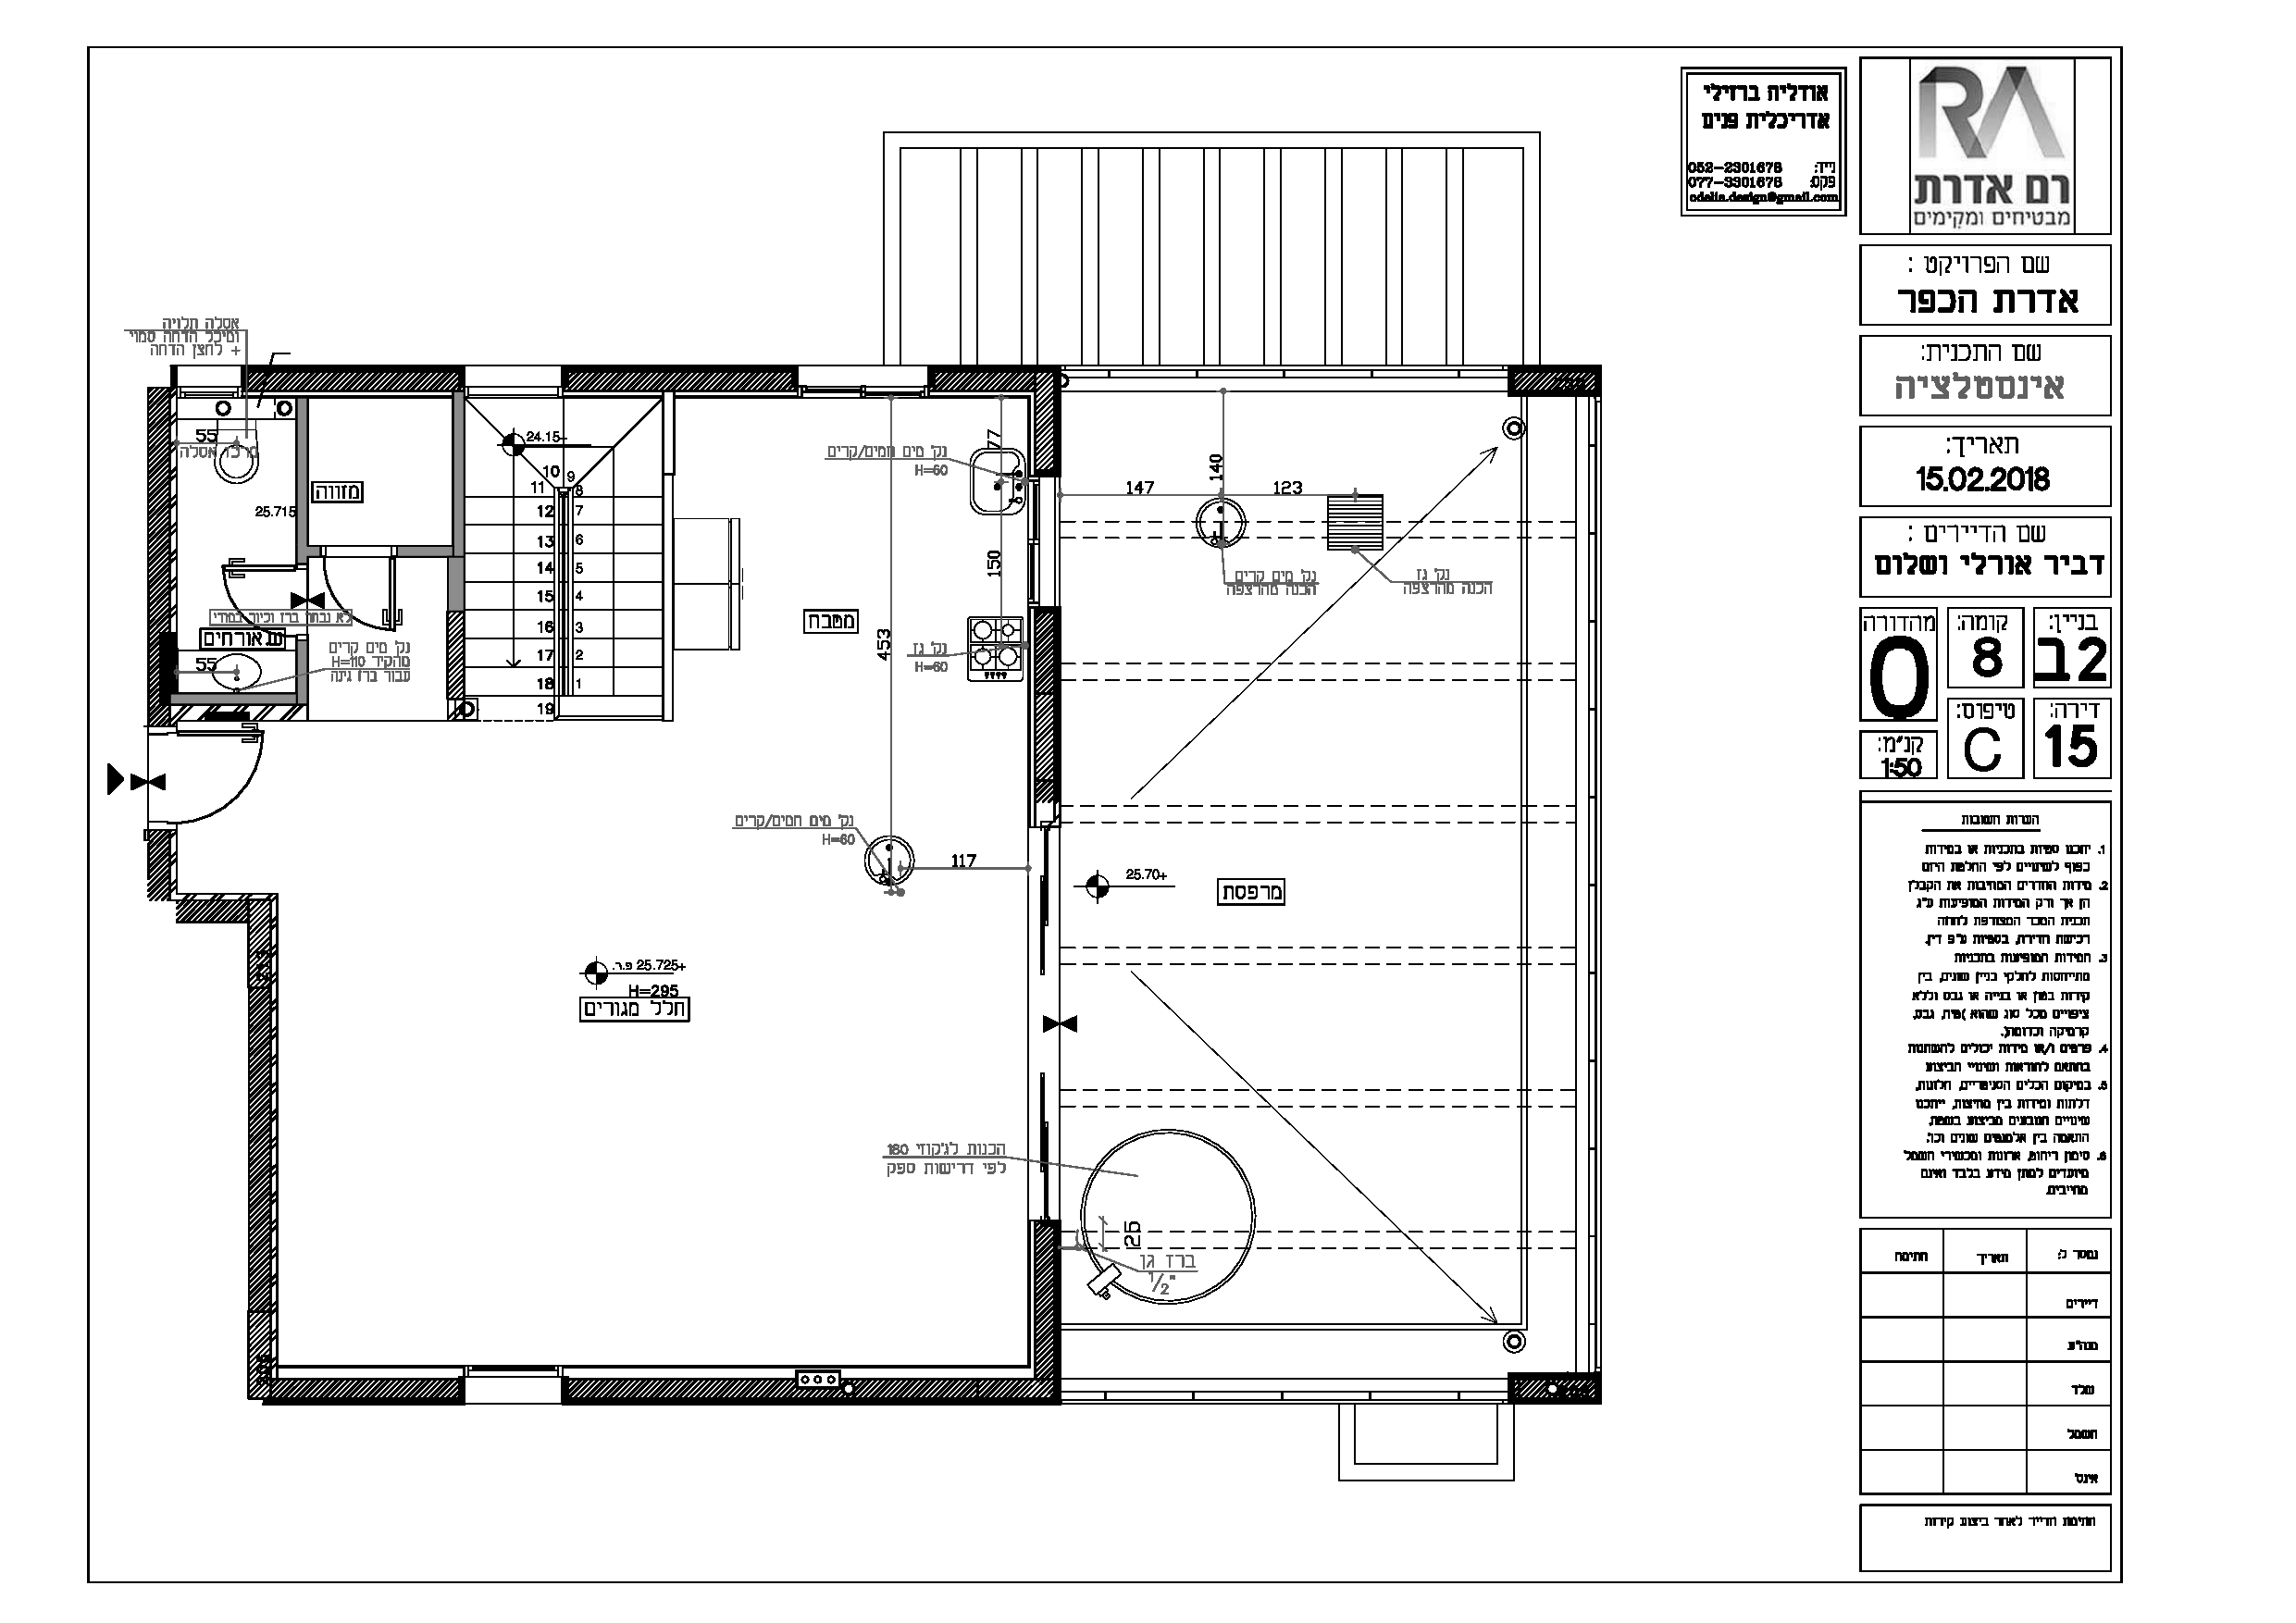door: (186, 729, 279, 824), (320, 566, 423, 636)
wall: (251, 987, 267, 1305), (151, 393, 169, 627), (578, 374, 787, 392), (283, 371, 448, 390), (1033, 1228, 1052, 1377), (278, 1382, 444, 1398), (576, 1384, 787, 1393), (1035, 371, 1052, 472), (1038, 617, 1056, 694), (455, 404, 462, 548), (299, 400, 304, 553)
window: (1022, 472, 1068, 611), (792, 357, 931, 402), (462, 1360, 566, 1414), (462, 353, 566, 404), (174, 358, 241, 406)
